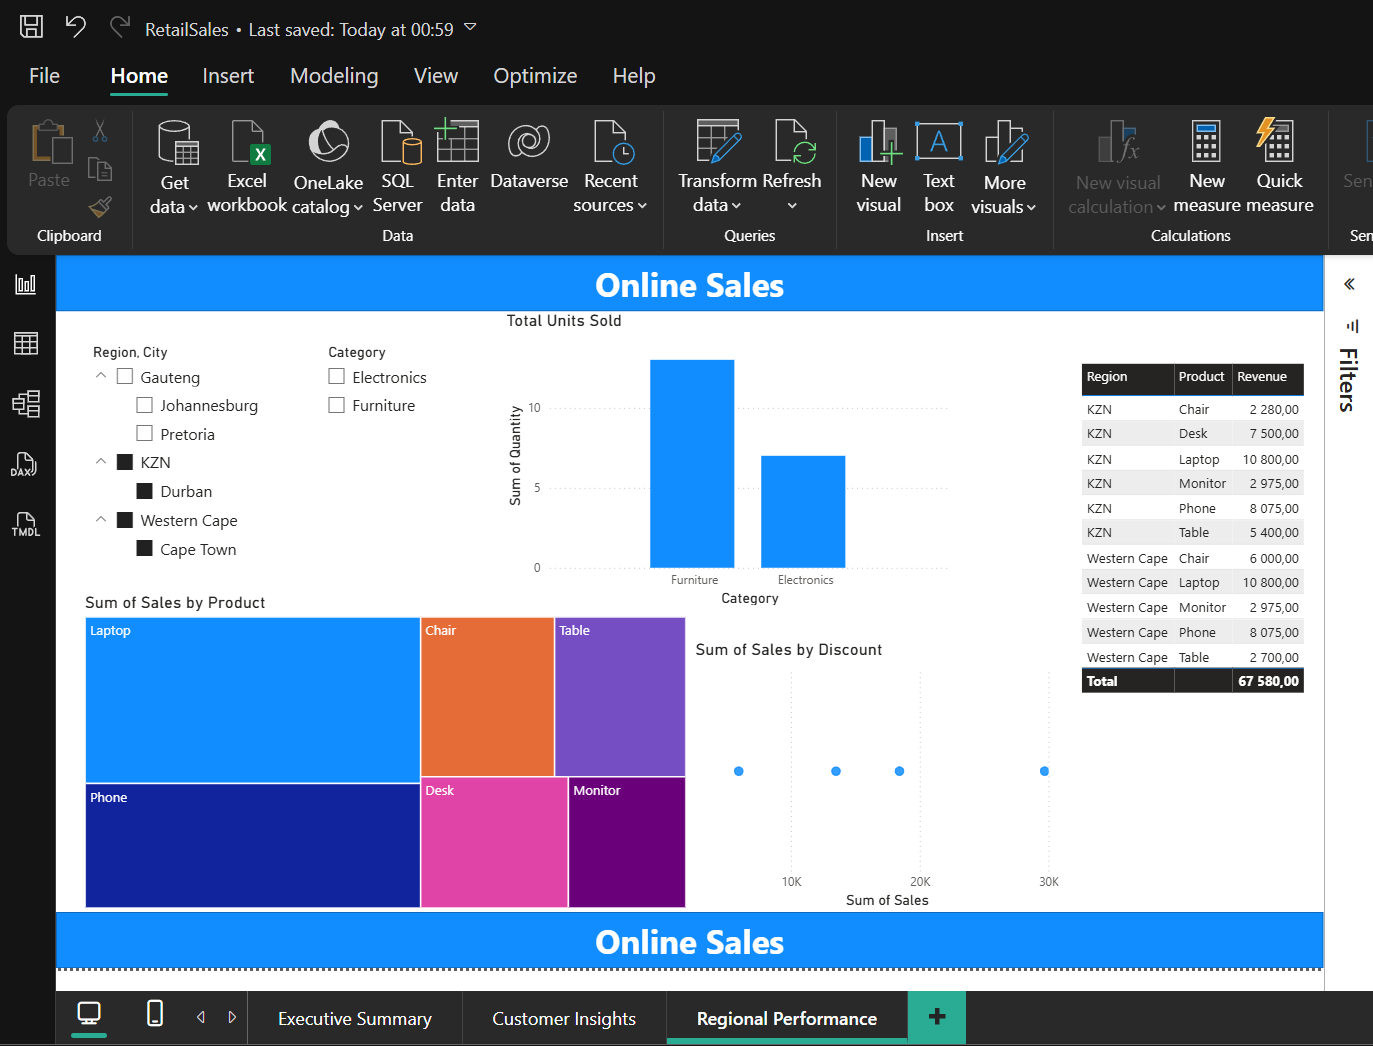

The page's visual inventory and layout, read from the dashboard file:
{"tool":"powerbi","page":{"name":"Regional Performance","canvas":[1280,720],"ordinal":2},"visuals":[{"type":"tableEx","fields":{"Values":["SaleTable_Clean_Dedup.Region","Products.Product","Sum(SaleTable_Clean_Dedup.Sales)"]},"box":[1029.9,103.9,249.5,472.4],"z":0},{"type":"treemap","fields":{"Group":["Products.Product"],"Values":["Sum(SaleTable_Clean_Dedup.Sales)"]},"box":[24.6,340.2,616.1,323.2],"z":1},{"type":"scatterChart","fields":{"Category":["SaleTable_Clean_Dedup.Discount"],"X":["Sum(SaleTable_Clean_Dedup.Sales)"]},"box":[640.6,387.4,376.1,275.9],"z":2},{"type":"slicer","fields":{"Values":["SaleTable_Clean_Dedup.Category"]},"box":[262.7,85,187.1,128.5],"z":3},{"type":"slicer","fields":{"Values":["SaleTable_Clean_Dedup.Region","SaleTable_Clean_Dedup.City"]},"box":[24.6,85,187.1,255.1],"z":4},{"type":"columnChart","title":"Total Units Sold","fields":{"Category":["SaleTable_Clean_Dedup.Category"],"Y":["Sum(SaleTable_Clean_Dedup.Quantity)"]},"box":[449.8,56.7,457.3,302.4],"z":5},{"type":"shape","title":"Online Shop","box":[0,663.3,1279.4,56.7],"z":6},{"type":"shape","title":"Online Shop","box":[0,0,1279.4,56.7],"z":7}]}

Visuals, with their boxes on the page's 1280x720 design canvas (x1, y1, x2, y2). These are canvas units, not pixel positions in the 1373x1046 screenshot, which may show the page scaled, cropped or inside an application window:
tableEx - SaleTable_Clean_Dedup.Region x Products.Product: 1030,104,1279,576
treemap - Products.Product x Sum(SaleTable_Clean_Dedup.Sales): 25,340,641,663
scatterChart - SaleTable_Clean_Dedup.Discount x Sum(SaleTable_Clean_Dedup.Sales): 641,387,1017,663
slicer - SaleTable_Clean_Dedup.Category: 263,85,450,214
slicer - SaleTable_Clean_Dedup.Region x SaleTable_Clean_Dedup.City: 25,85,212,340
"Total Units Sold" columnChart: 450,57,907,359
"Online Shop" shape: 0,663,1279,720
"Online Shop" shape: 0,0,1279,57
